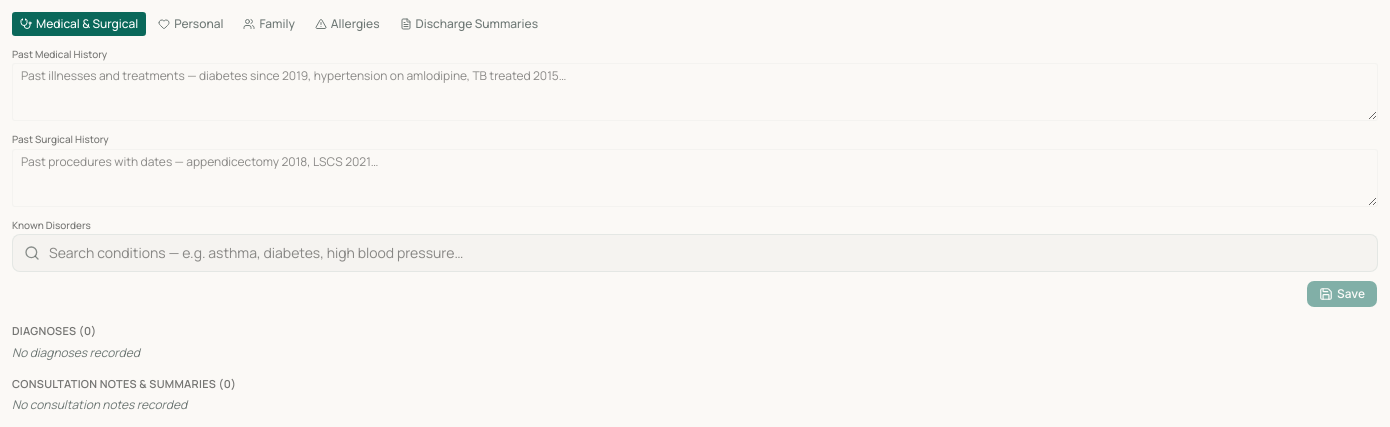
it: past discharge summaries in the patient history panel › shows a past stay by its discharge date, not as "Not yet discharged"
Click the button "Discharge Summaries".
click(469, 24)  # box [392,12,546,36]
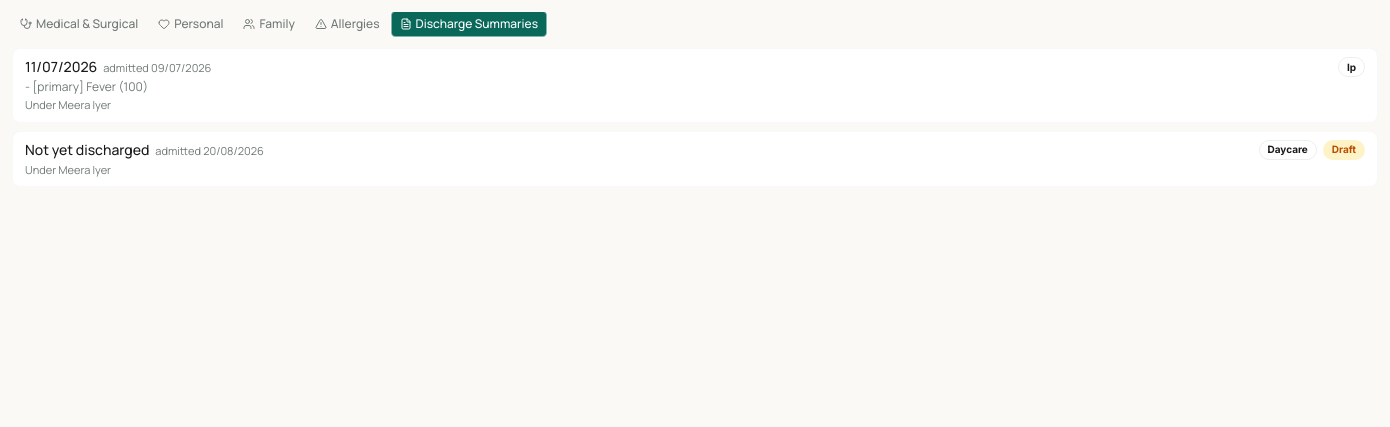
expect the text "Under Meera Iyer" is shown: met, box [25,97,111,112]
expect the text "11/07/2026" is shown: met, box [25,57,97,76]
expect the text "admitted 09/07/2026" is shown: met, box [103,60,211,75]
